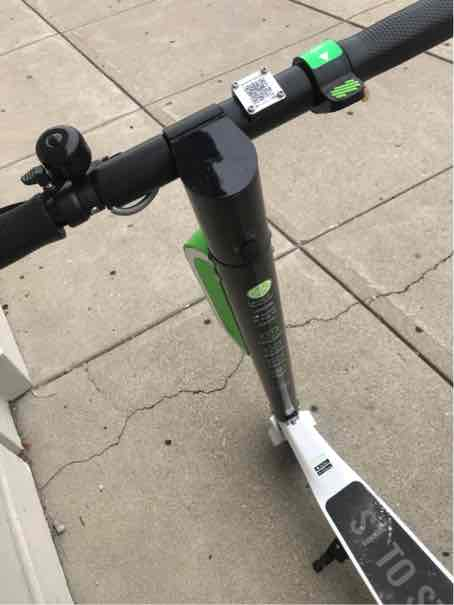scooter: (7, 31, 441, 605)
